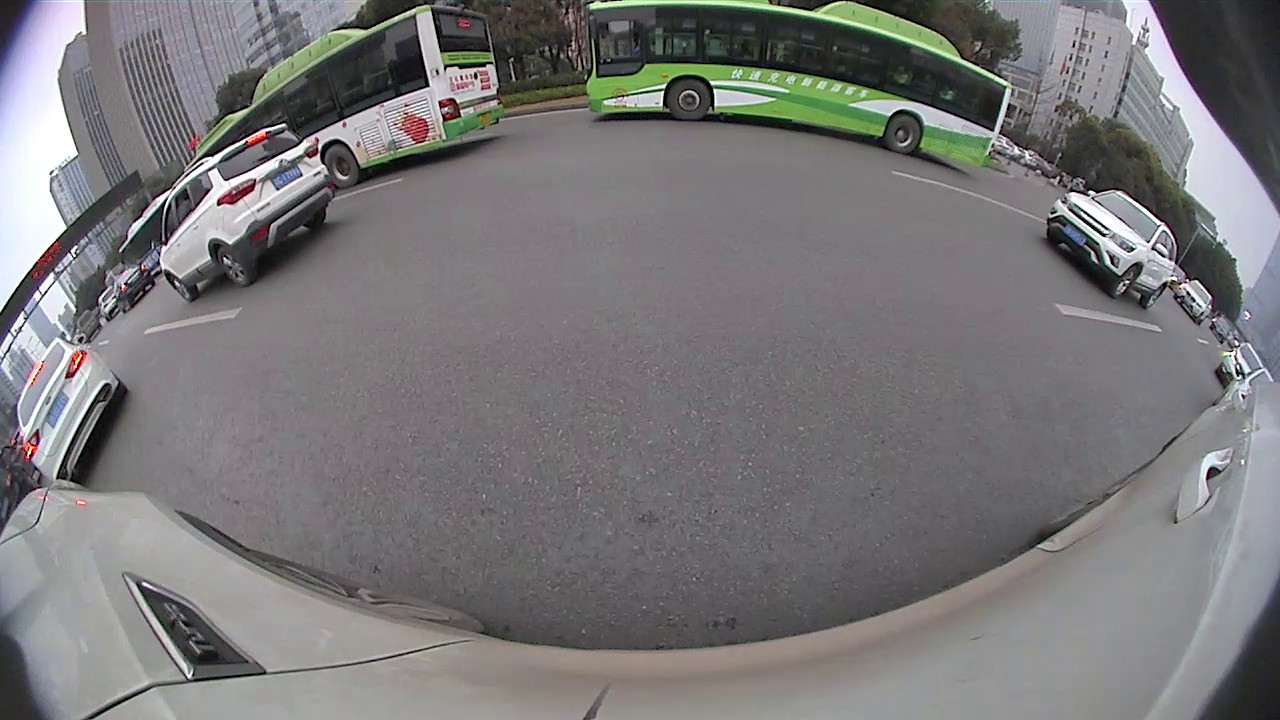bus: (577, 0, 1019, 181), (181, 2, 505, 188)
car: (156, 122, 335, 303), (14, 333, 129, 487), (1042, 188, 1180, 312)
front: (665, 76, 713, 121), (1111, 264, 1140, 302), (165, 272, 192, 303)
rear: (323, 142, 361, 188), (214, 245, 252, 290), (886, 113, 924, 157)
